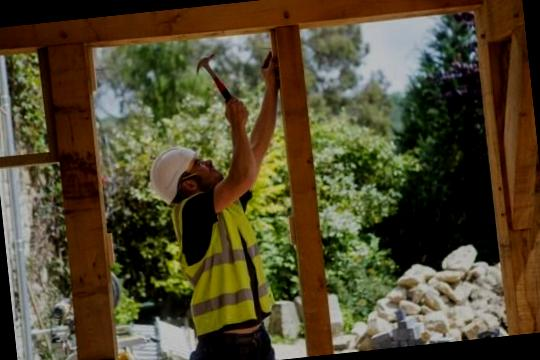helmet: (145, 140, 212, 210)
person: (141, 132, 285, 360)
